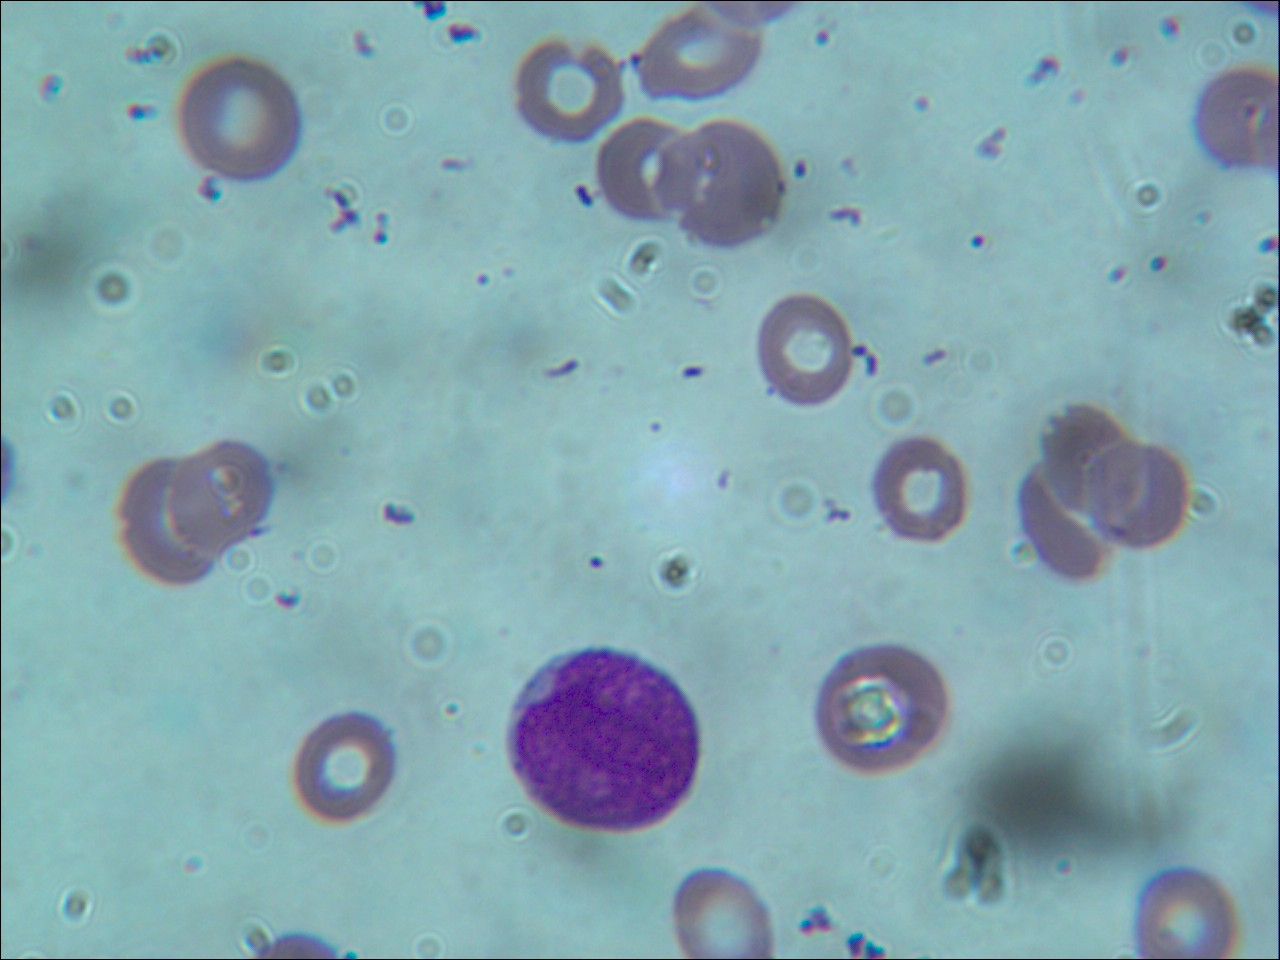Eritrosit: (818, 637, 955, 778), (655, 117, 784, 252), (177, 55, 308, 179), (281, 708, 402, 831), (114, 459, 220, 586), (1034, 402, 1148, 514), (173, 442, 275, 556), (512, 42, 623, 142), (640, 11, 761, 102), (1124, 864, 1237, 960), (870, 437, 965, 547), (761, 296, 853, 408), (1086, 446, 1187, 547), (1186, 62, 1280, 169), (602, 121, 698, 224), (671, 871, 775, 960)
Platelet: (1148, 14, 1193, 50), (375, 499, 417, 534), (1100, 36, 1134, 74), (639, 414, 675, 449), (1064, 83, 1102, 114), (120, 97, 156, 127), (195, 175, 227, 208), (270, 583, 300, 617), (568, 177, 599, 212), (705, 459, 734, 494), (803, 19, 840, 47), (578, 547, 608, 580), (1100, 262, 1134, 290), (624, 46, 652, 81), (784, 156, 814, 187), (964, 228, 993, 258), (33, 72, 61, 103), (443, 21, 477, 47), (470, 264, 495, 297), (1258, 225, 1280, 262), (680, 359, 703, 390), (908, 87, 934, 114), (1148, 249, 1174, 275), (348, 31, 374, 56), (370, 203, 393, 228), (365, 228, 390, 250)
